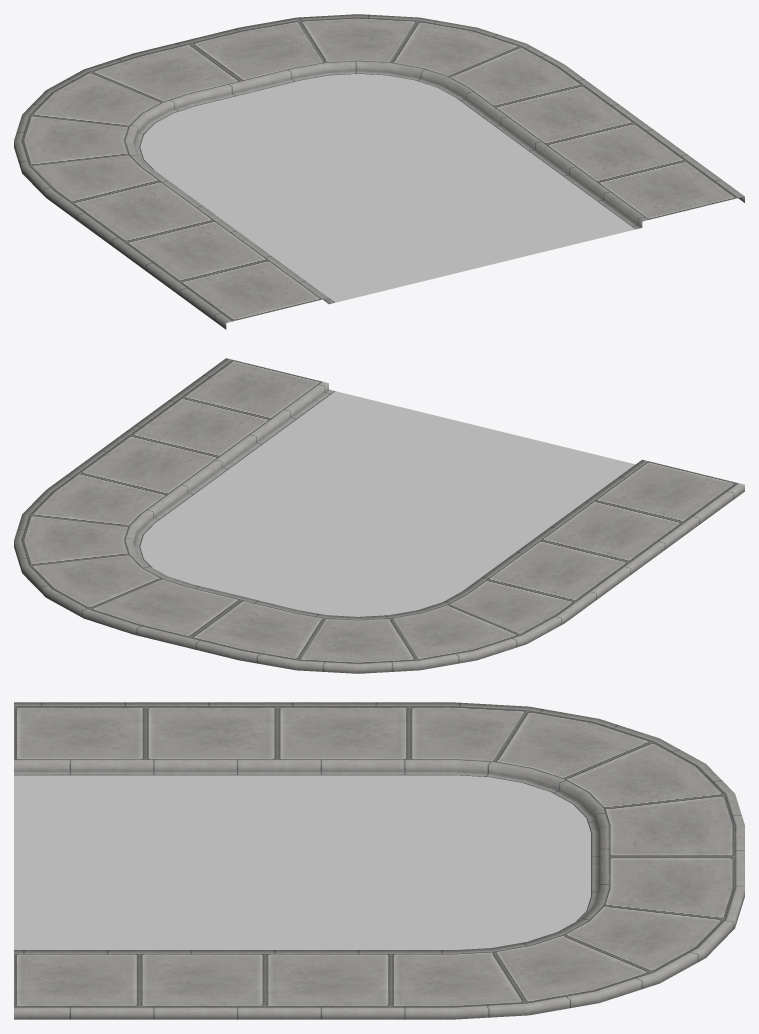
File: street.end.fbx
3 views of the same model, one above another, from view 1: azimuth 30°, elevation 25°; view 2: azimuth 150°, elevation 25°; view 3: azimuth 270°, elevation 25° (orthographic). The views are drawn at different scales.
Parts seen in each view (by area): view 1: MESH street.end; view 2: MESH street.end; view 3: MESH street.end.
Part boxes in pixels (<box>): MESH street.end: <box>14,14,744,329</box>; MESH street.end: <box>14,358,744,673</box>; MESH street.end: <box>14,702,744,1019</box>.
Size of what is drawn, in the model's own units: 1200 by 15 by 1200.
